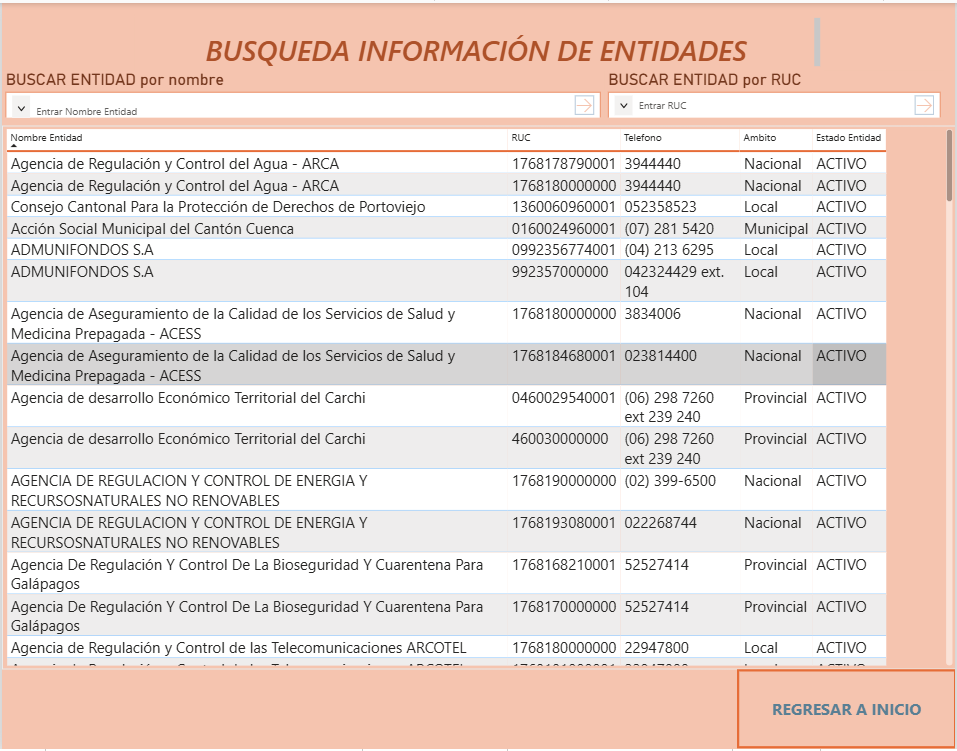

The page's visual inventory and layout, read from the dashboard file:
{"tool":"powerbi","page":{"name":"Información de entidades","canvas":[1280,1000],"ordinal":3},"visuals":[{"type":"tableEx","fields":{"Values":["2020-2021.Nombre Entidad","2020-2021.RUC","2020-2021.Telefono","DIM Ambito.Ambito","2020-2021.Estado Entidad"]},"box":[0,164.4,1279.5,728.9],"z":7000},{"type":"textSlicer","title":"BUSCAR ENTIDAD por nombre","fields":{"Values":["2020-2021.Nombre Entidad"]},"box":[0,91.1,807.2,62.8],"z":8000},{"type":"textSlicer","title":"BUSCAR ENTIDAD por RUC","fields":{"Values":["2020-2021.RUC"]},"box":[807.2,91.1,455.4,62.8],"z":9000},{"type":"textbox","box":[177.9,14.9,924.1,75.9],"z":10000},{"type":"actionButton","box":[986,893.9,294,106.1],"z":12000}]}

Visuals, with their boxes in screenshot pixels (x1, y1, x2, y2), scaled from the page's 1280x1000 canvas onto the 957x751 screenshot:
tableEx - 2020-2021.Nombre Entidad x 2020-2021.RUC: (left=0, top=123, right=956, bottom=671)
"BUSCAR ENTIDAD por nombre" textSlicer: (left=0, top=68, right=604, bottom=116)
"BUSCAR ENTIDAD por RUC" textSlicer: (left=604, top=68, right=944, bottom=116)
textbox: (left=133, top=11, right=824, bottom=68)
actionButton: (left=737, top=671, right=956, bottom=750)
